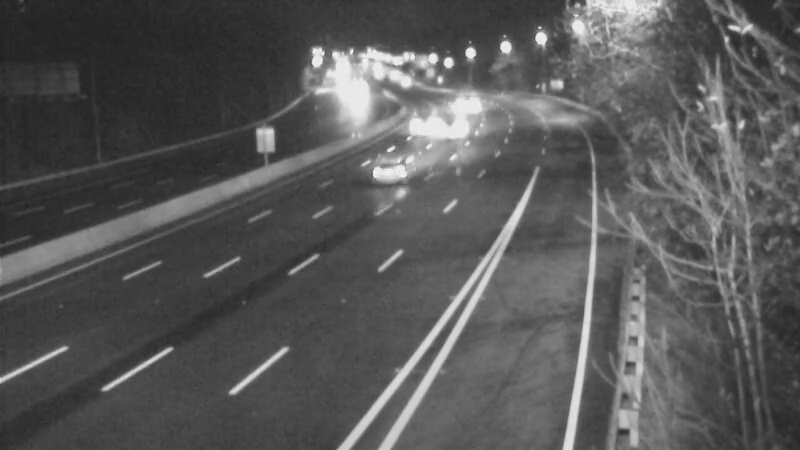vehicle: (342, 129, 422, 209), (434, 84, 484, 134), (397, 95, 447, 145), (427, 107, 477, 157)
